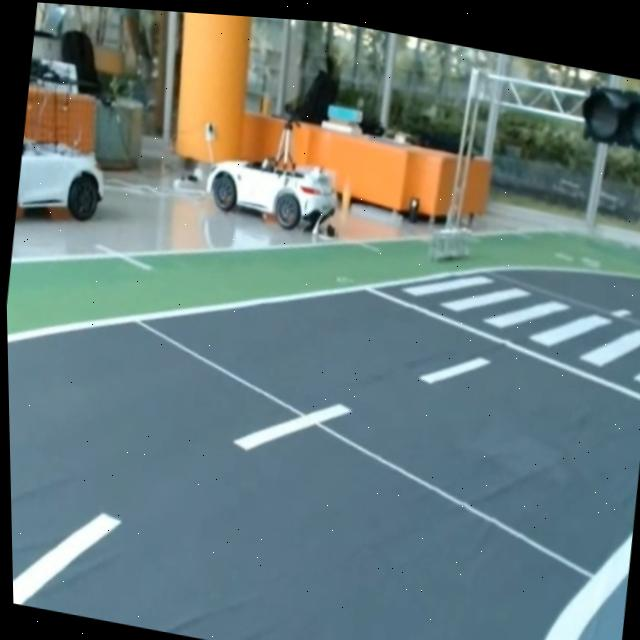traffic-light: (572, 76, 640, 161)
